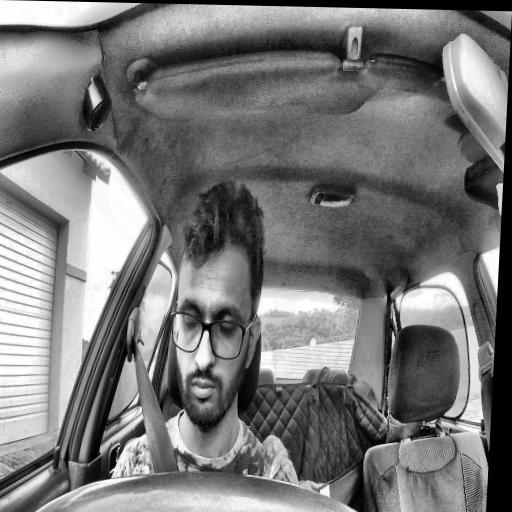drowsy: (163, 182, 270, 438)
